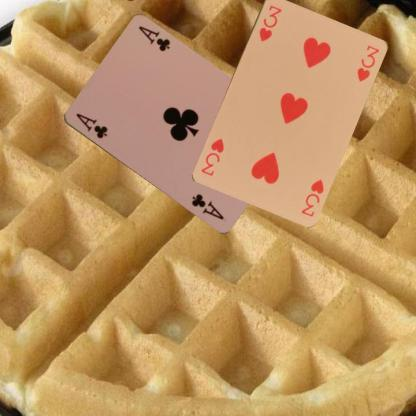3h: (298, 176, 325, 218), (256, 2, 283, 42)
Ac: (72, 110, 108, 140)
